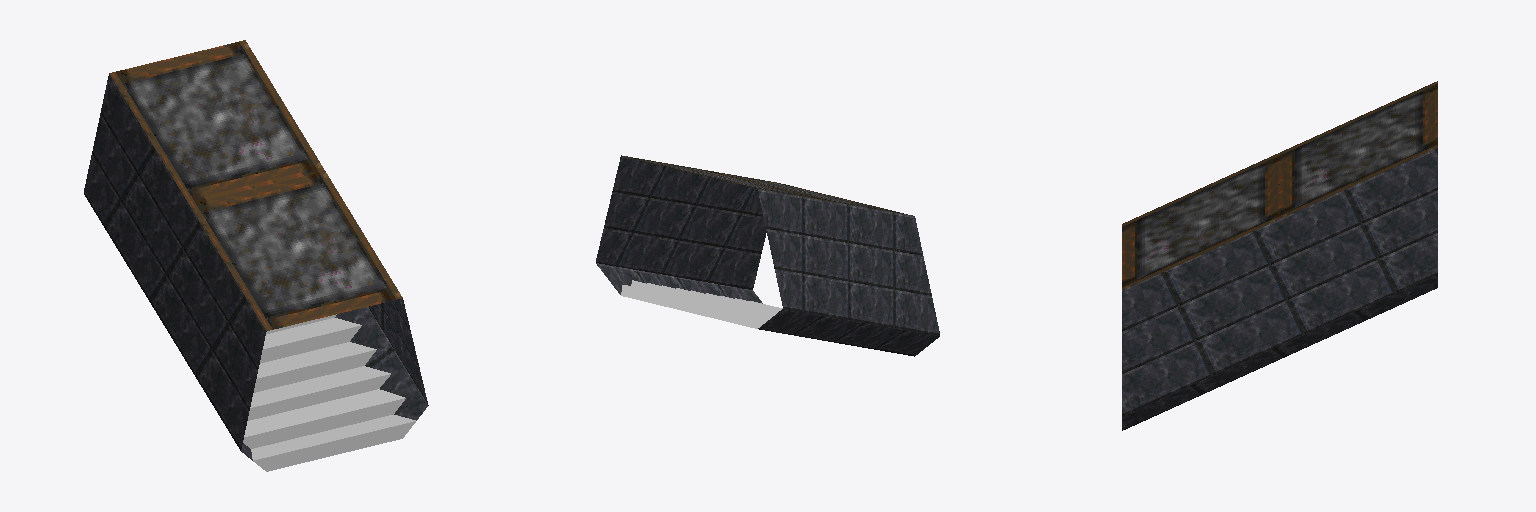
3 renders of one model, left to right at view 1: azimuth 30°, elevation 25°; view 2: azimuth 150°, elevation 25°; view 3: azimuth 270°, elevation 25°, orthographic.
Visible parts, largest first — view 1: model63026-node_model63026; view 2: model63026-node_model63026; view 3: model63026-node_model63026.
Boxes of the visible parts, x1=… form: model63026-node_model63026: x1=84, y1=40, x2=428, y2=471; model63026-node_model63026: x1=596, y1=155, x2=939, y2=356; model63026-node_model63026: x1=1122, y1=81, x2=1437, y2=430.
Bounding box in the file's own units: 4.4 × 6.35 × 6.4.
3 materials, 2 textured.